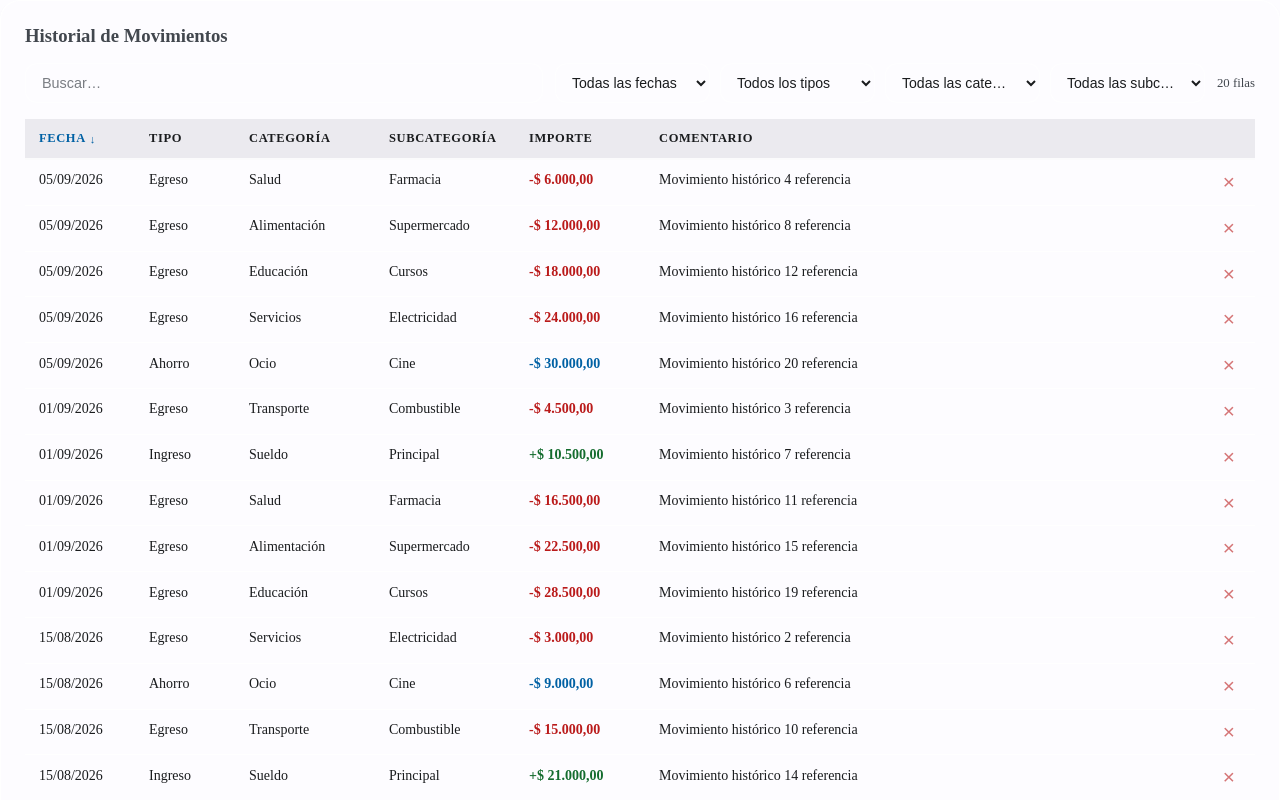
Test: TransactionsList Empirical Challenger (Milestone 4 Deep Validation) › Column Filters (Fecha, Tipo, Categoría, Subcategoría) › filters correctly by Tipo ("Ingreso", "Egreso", "Ahorro")
The width and height of the screenshot is (1280, 800).
// Filter by Ahorro
Step 1. Select "Ahorro" in the dropdown named "filtrar por tipo" → (798, 83), box x1=720 y1=63 x2=875 y2=103
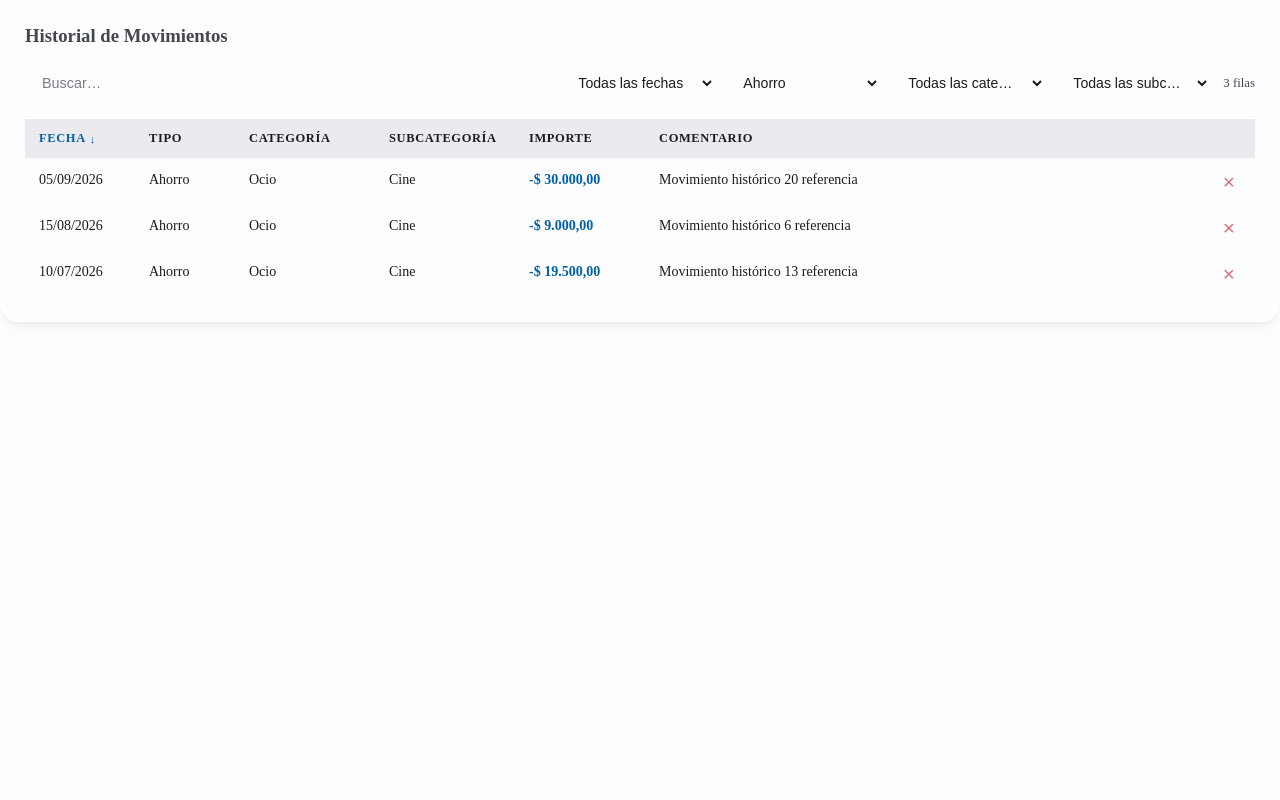
Expected: the 2nd row shows "Ahorro", x1=149 y1=172 x2=189 y2=187
Result: the text "Sueldo" is gone
